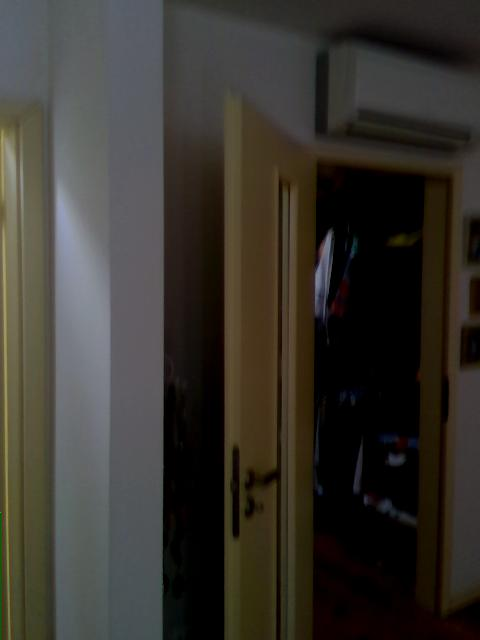open_door: (258, 139, 463, 623)
